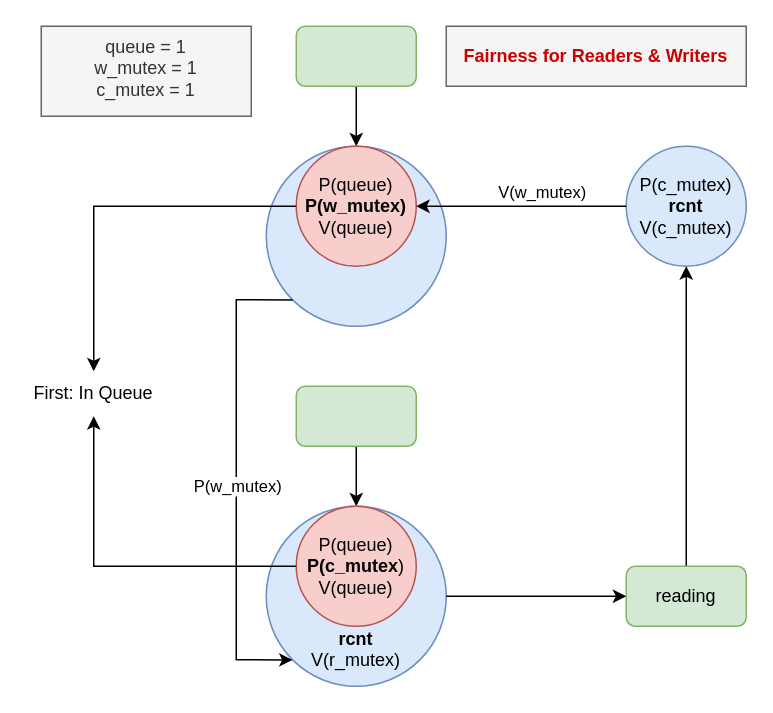
Some shapes in this 773 by 713 pixel diagram are drawn without their labels. Here are the shapes that lost their labels. From the top down, the box of each, then its label:
(295, 25, 416, 86): writer
(265, 145, 446, 326): writing V(w_mutex)
(295, 385, 416, 446): reader
